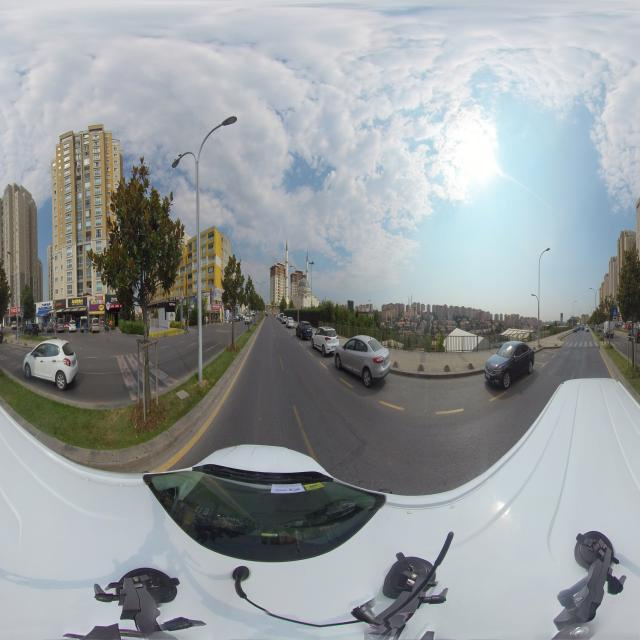SignStore: (68, 298, 87, 307), (38, 301, 52, 310), (55, 299, 66, 309)
